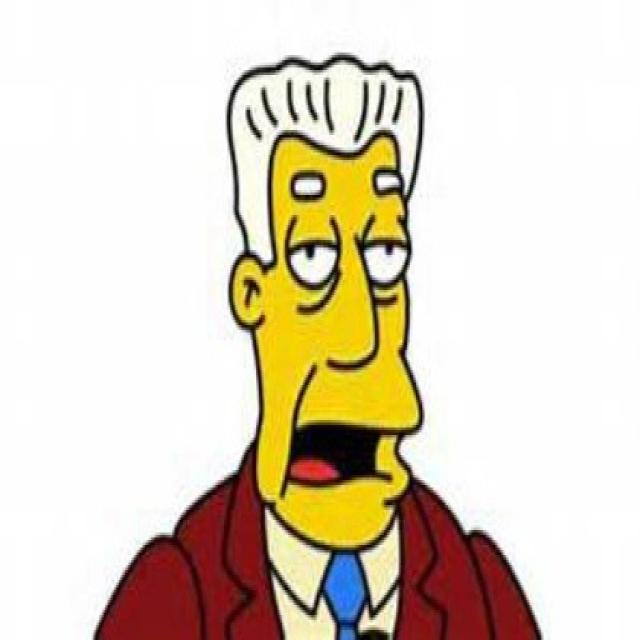Kent Brockman: (224, 50, 428, 560)
